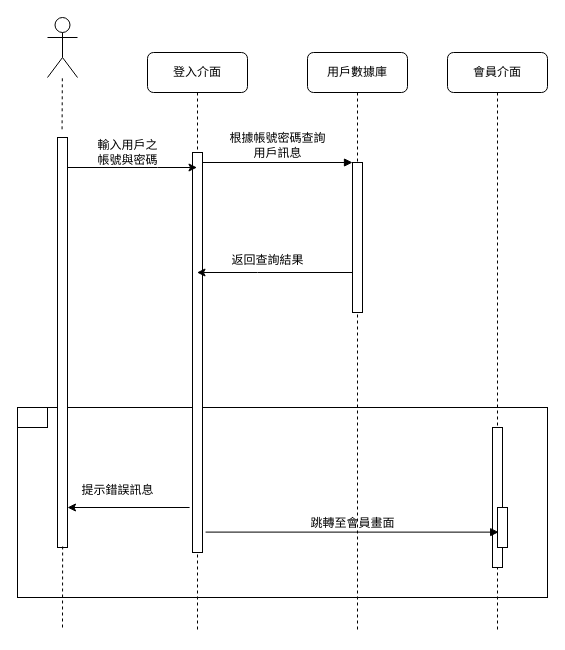
Image size: 565x650. Some labels were removed from this diagram. Each missing label, with the centre of its shape:
"alt" goes at point 32,417.
"一般用戶" goes at point 62,47.
